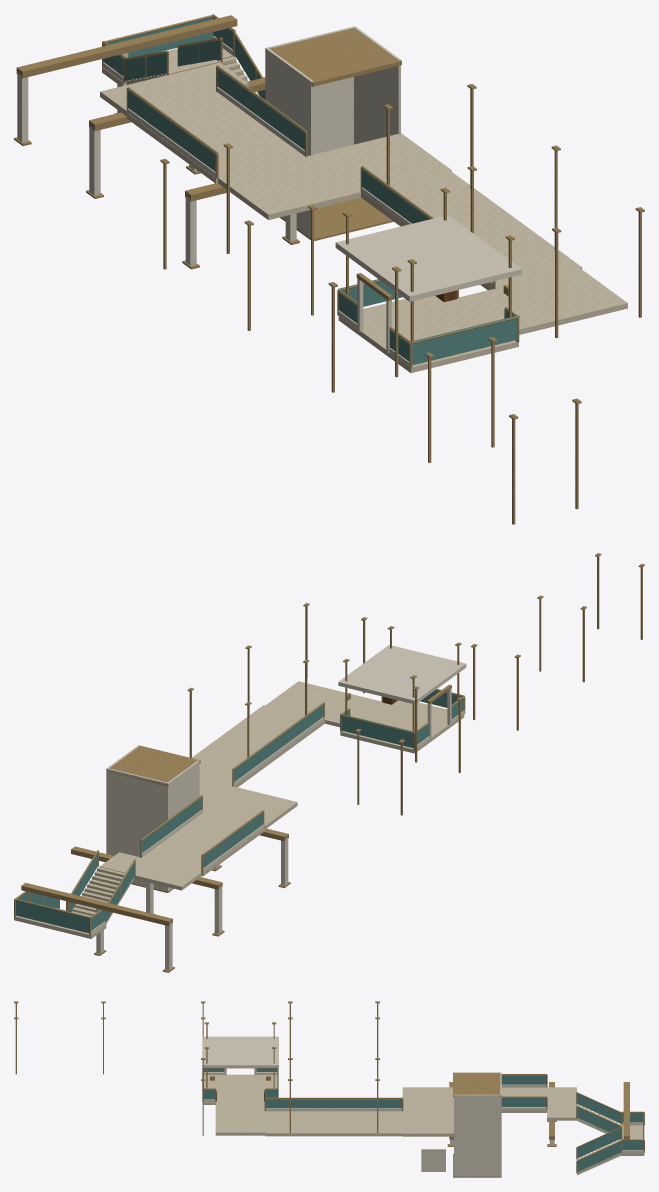
File: AST-TRM-G4-013_forward_source.glb
3 views of the same model, one above another, from view 1: azimuth 30°, elevation 25°; view 2: azimuth 150°, elevation 25°; view 3: azimuth 270°, elevation 25° (orthographic). The views are drawn at different scales.
Parts seen in each view (by area): view 1: V2__FORWARD__Broad_LocalLanding, V2__FORWARD__LocalCanopy, V2__FORWARD__Upper_Port_CoreConnector, V2__FORWARD__Stair_EastCabin_Bypass, V2__FORWARD__Port_TransverseConnector, V2__FORWARD__Boarding_Pod, V2__FORWARD__LiftCap, V2__FORWARD__LiftHousingSide_-7.7, V2__FORWARD__LiftHousingSide_-3.5, V2__FORWARD__LiftHousingRear, V2__FORWARD__AnnexCrossbearer_0, V2_FORWARD_PodEnd_-429_infill (+12 smaller); view 2: V2__FORWARD__LiftHousingRear, V2__FORWARD__LocalCanopy, V2__FORWARD__Upper_Port_CoreConnector, V2__FORWARD__Stair_EastCabin_Bypass, V2__FORWARD__Broad_LocalLanding, V2__FORWARD__Boarding_Pod, V2__FORWARD__Port_TransverseConnector, V2__FORWARD__LiftCap, V2__FORWARD__Stair_BroadReturn, V2__FORWARD__AnnexCrossbearer_0, V2_FORWARD_PodEnd_-435_infill, V2__FORWARD__Upper_Core_InnerGuard_infill (+4 smaller); view 3: V2__FORWARD__LiftHousingSide_-7.7, V2__FORWARD__Upper_Port_CoreConnector, V2__FORWARD__Broad_LocalLanding, V2__FORWARD__LocalCanopy, V2__FORWARD__Port_TransverseConnector, V2__FORWARD__Boarding_Pod, V2__FORWARD__Upper_Core_InnerGuard_infill, V2__FORWARD__LiftCap, V2__FORWARD__Stair_EastCabin_Bypass, V2__FORWARD__GuestWaitScreen, V2__FORWARD__Stair_BroadReturn, V2__FORWARD__Upper_Core_InnerGuard_foot (+10 smaller).
Boxes of the visible parts, x1=… form: V2__FORWARD__Broad_LocalLanding: x1=218, y1=133, x2=451, y2=219; V2__FORWARD__LocalCanopy: x1=335, y1=215, x2=521, y2=301; V2__FORWARD__Upper_Port_CoreConnector: x1=361, y1=170, x2=582, y2=290; V2__FORWARD__Stair_EastCabin_Bypass: x1=127, y1=91, x2=304, y2=183; V2__FORWARD__Port_TransverseConnector: x1=459, y1=268, x2=627, y2=334; V2__FORWARD__Boarding_Pod: x1=338, y1=296, x2=518, y2=372; V2__FORWARD__LiftCap: x1=265, y1=28, x2=401, y2=86; V2__FORWARD__LiftHousingSide_-7.7: x1=354, y1=27, x2=400, y2=144; V2__FORWARD__LiftHousingSide_-3.5: x1=266, y1=48, x2=313, y2=238; V2__FORWARD__LiftHousingRear: x1=265, y1=26, x2=355, y2=154; V2__FORWARD__AnnexCrossbearer_0: x1=16, y1=15, x2=237, y2=78; V2_FORWARD_PodEnd_-429_infill: x1=411, y1=315, x2=519, y2=365; V2__FORWARD__LiftHousingRear: x1=106, y1=768, x2=168, y2=891; V2__FORWARD__LocalCanopy: x1=338, y1=645, x2=466, y2=704; V2__FORWARD__Upper_Port_CoreConnector: x1=192, y1=705, x2=324, y2=787; V2__FORWARD__Stair_EastCabin_Bypass: x1=142, y1=813, x2=264, y2=876; V2__FORWARD__Broad_LocalLanding: x1=199, y1=778, x2=297, y2=829; V2__FORWARD__Boarding_Pod: x1=340, y1=700, x2=464, y2=753; V2__FORWARD__Port_TransverseConnector: x1=265, y1=681, x2=381, y2=727; V2__FORWARD__LiftCap: x1=106, y1=745, x2=200, y2=786; V2__FORWARD__Stair_BroadReturn: x1=101, y1=853, x2=201, y2=890; V2__FORWARD__AnnexCrossbearer_0: x1=21, y1=882, x2=172, y2=925; V2_FORWARD_PodEnd_-435_infill: x1=340, y1=713, x2=414, y2=747; V2__FORWARD__Upper_Core_InnerGuard_infill: x1=234, y1=704, x2=324, y2=781; V2__FORWARD__LiftHousingSide_-7.7: x1=454, y1=1094, x2=500, y2=1176; V2__FORWARD__Upper_Port_CoreConnector: x1=265, y1=1111, x2=402, y2=1136; V2__FORWARD__Broad_LocalLanding: x1=402, y1=1087, x2=454, y2=1136; V2__FORWARD__LocalCanopy: x1=202, y1=1036, x2=278, y2=1067; V2__FORWARD__Port_TransverseConnector: x1=215, y1=1102, x2=265, y2=1135; V2__FORWARD__Boarding_Pod: x1=203, y1=1074, x2=277, y2=1104; V2__FORWARD__Upper_Core_InnerGuard_infill: x1=266, y1=1099, x2=401, y2=1108; V2__FORWARD__LiftCap: x1=453, y1=1072, x2=501, y2=1097; V2__FORWARD__Stair_EastCabin_Bypass: x1=501, y1=1087, x2=546, y2=1112; V2__FORWARD__GuestWaitScreen: x1=421, y1=1149, x2=445, y2=1171; V2__FORWARD__Stair_BroadReturn: x1=547, y1=1087, x2=576, y2=1117; V2__FORWARD__Upper_Core_InnerGuard_foot: x1=265, y1=1108, x2=402, y2=1111.
Bounding box in the file's own units: 15.04 × 8.63 × 50.64.
6 materials, 4 textured.
